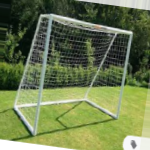goals: (13, 11, 134, 135)
